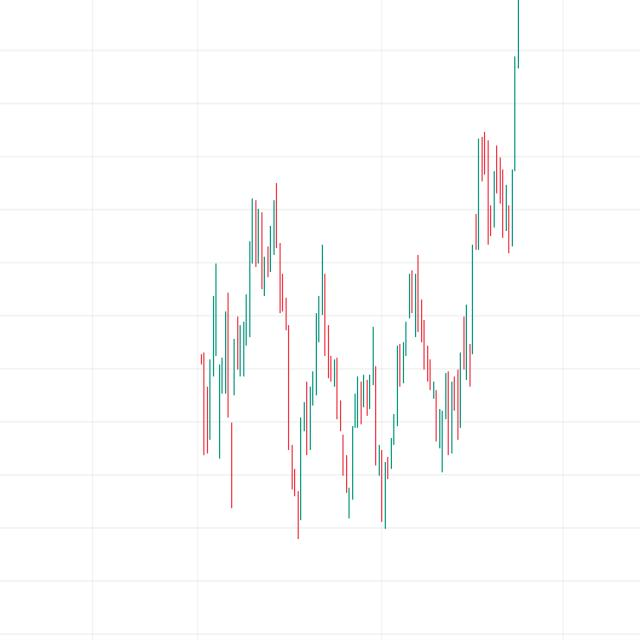Triple-Bottom: (277, 304, 419, 536)
